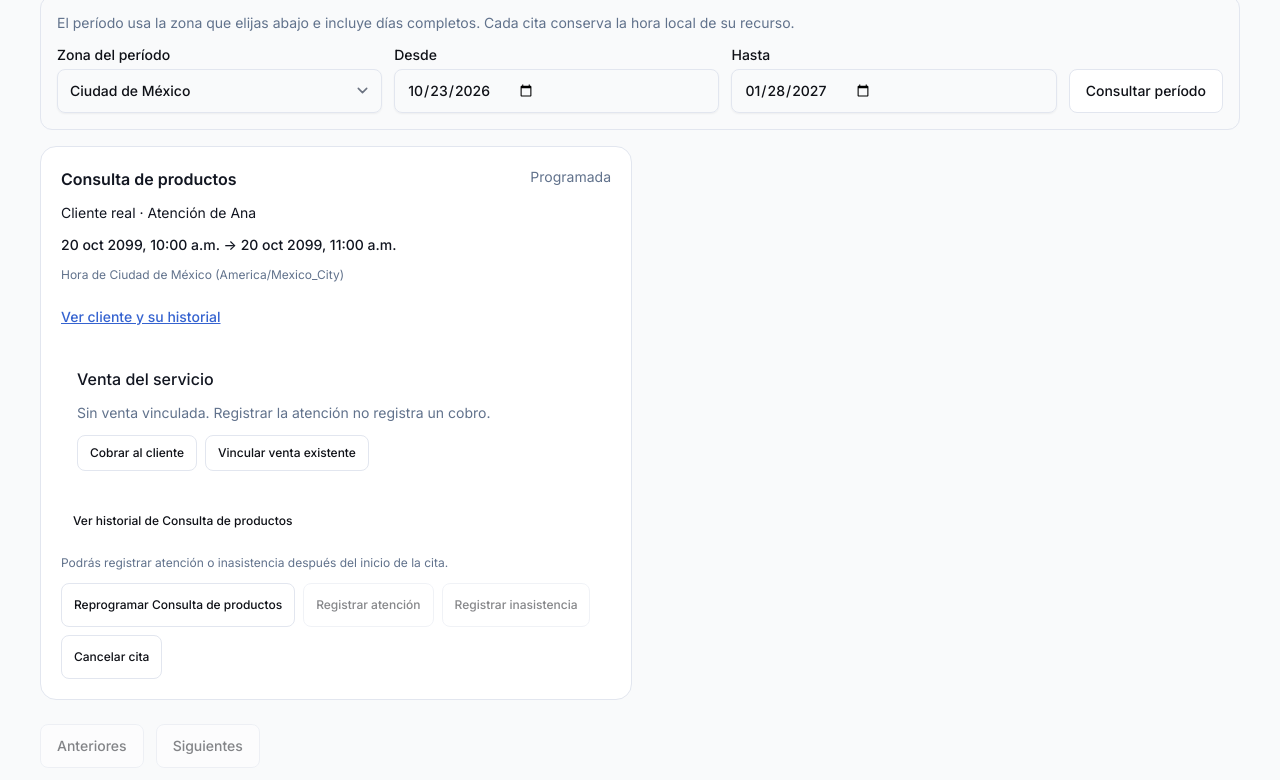
refreshes an exact reminder after rescheduling its appointment and removes stale actions
(page scrolled)
Click the button "Reprogramar Consulta de productos" at (178, 605), box [61,583,295,627]
(page scrolled)
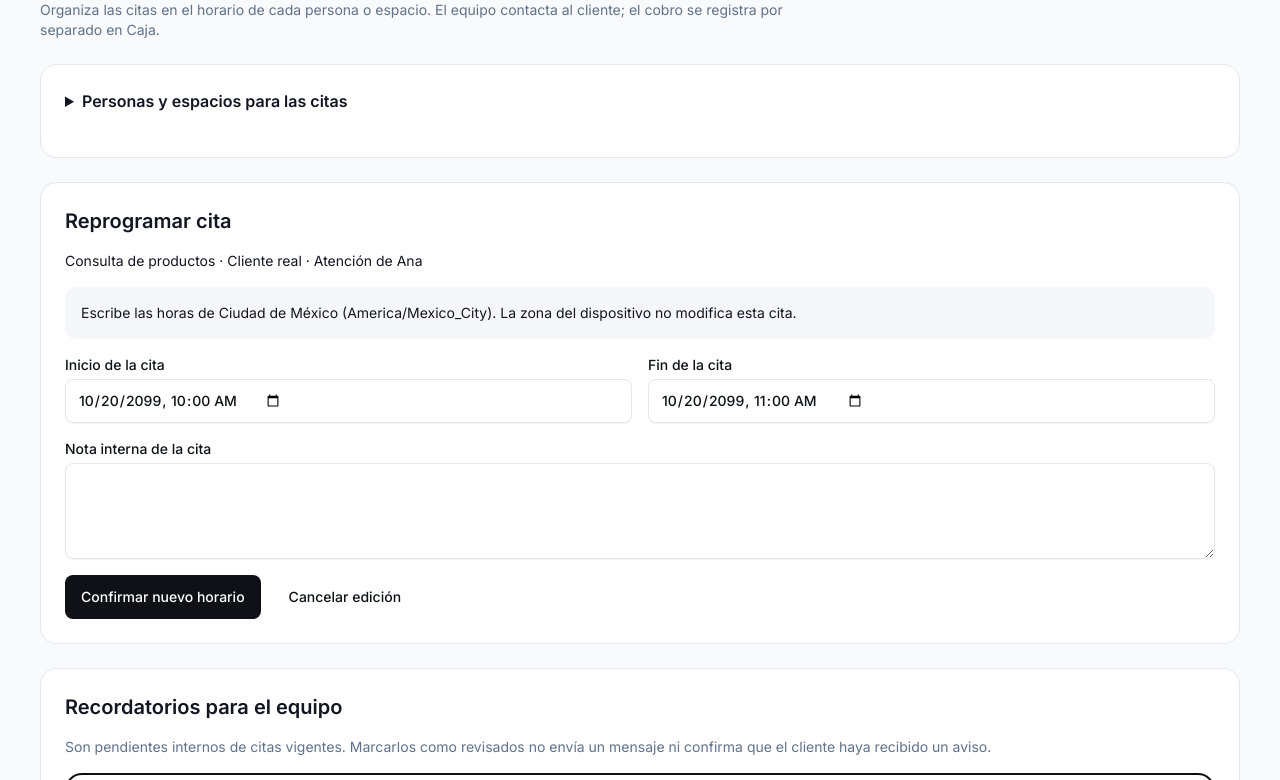
Replace the text in the field labelled "Inicio de la cita" with "2099-10-21T10:00" at (348, 401), box [65,379,632,423]
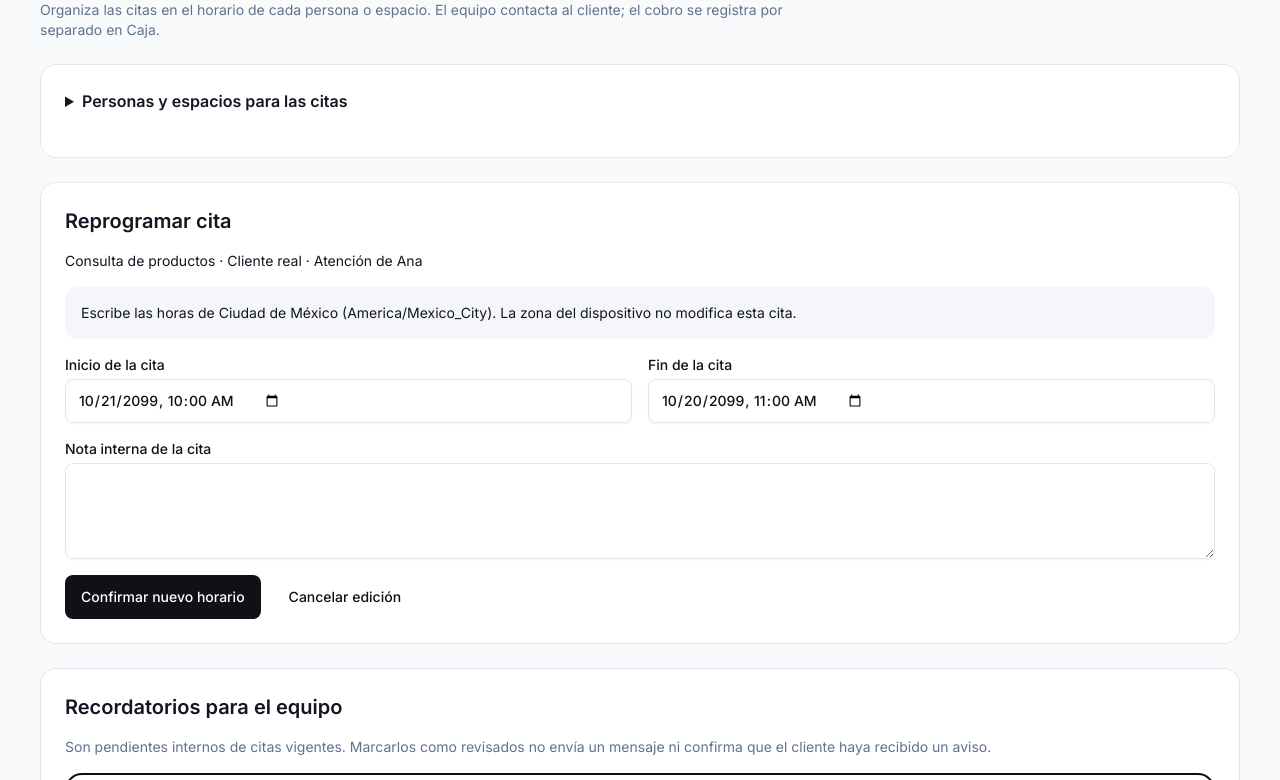
Replace the text in the field labelled "Fin de la cita" with "2099-10-21T11:00" at (932, 401), box [648,379,1215,423]
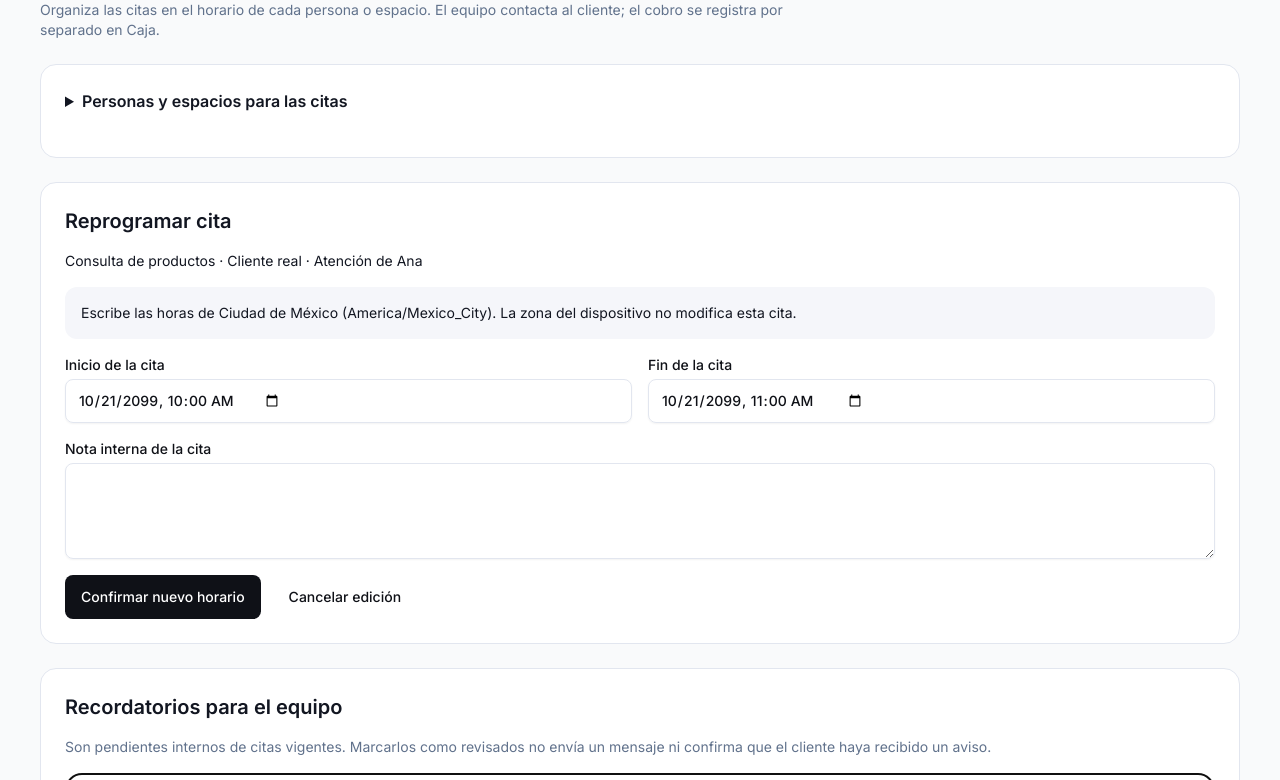
Click the button "Confirmar nuevo horario" at (163, 597), box [65,575,261,619]
(page scrolled)
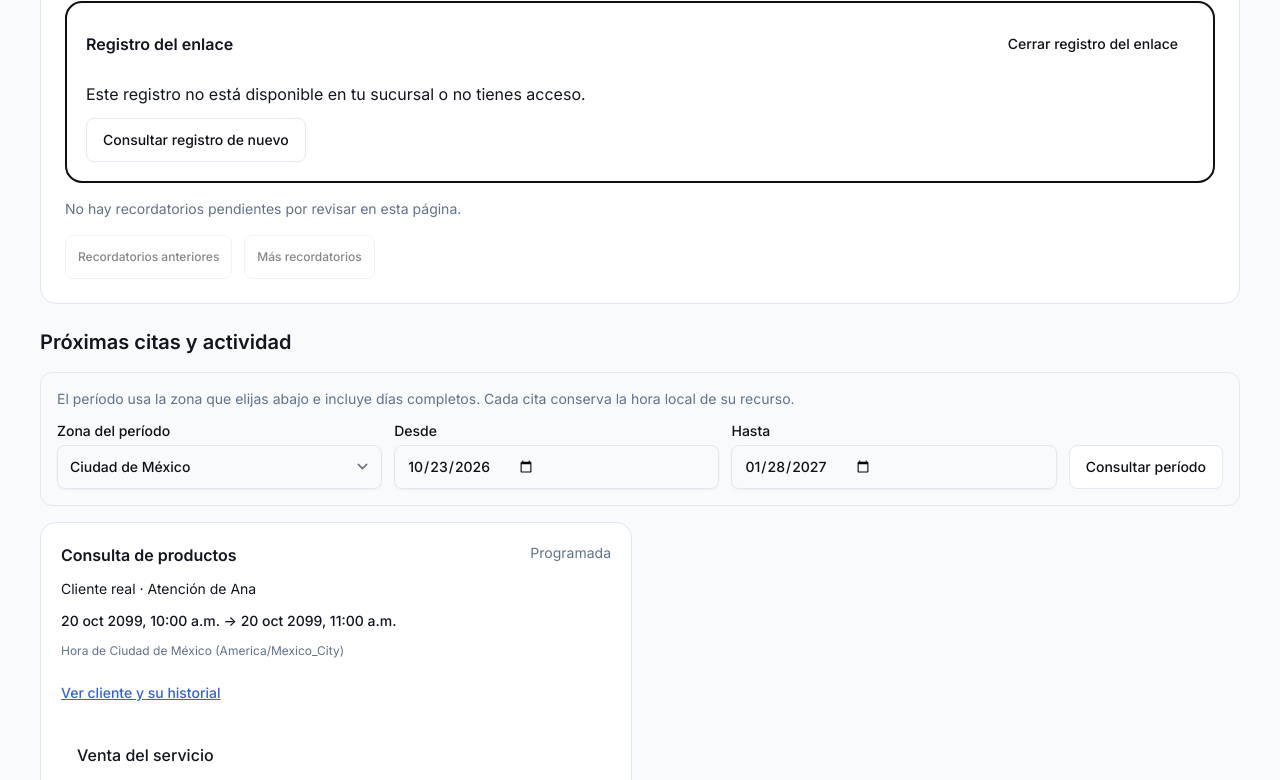
Check: the message shows "no está disponible", box [86,84,586,104]
